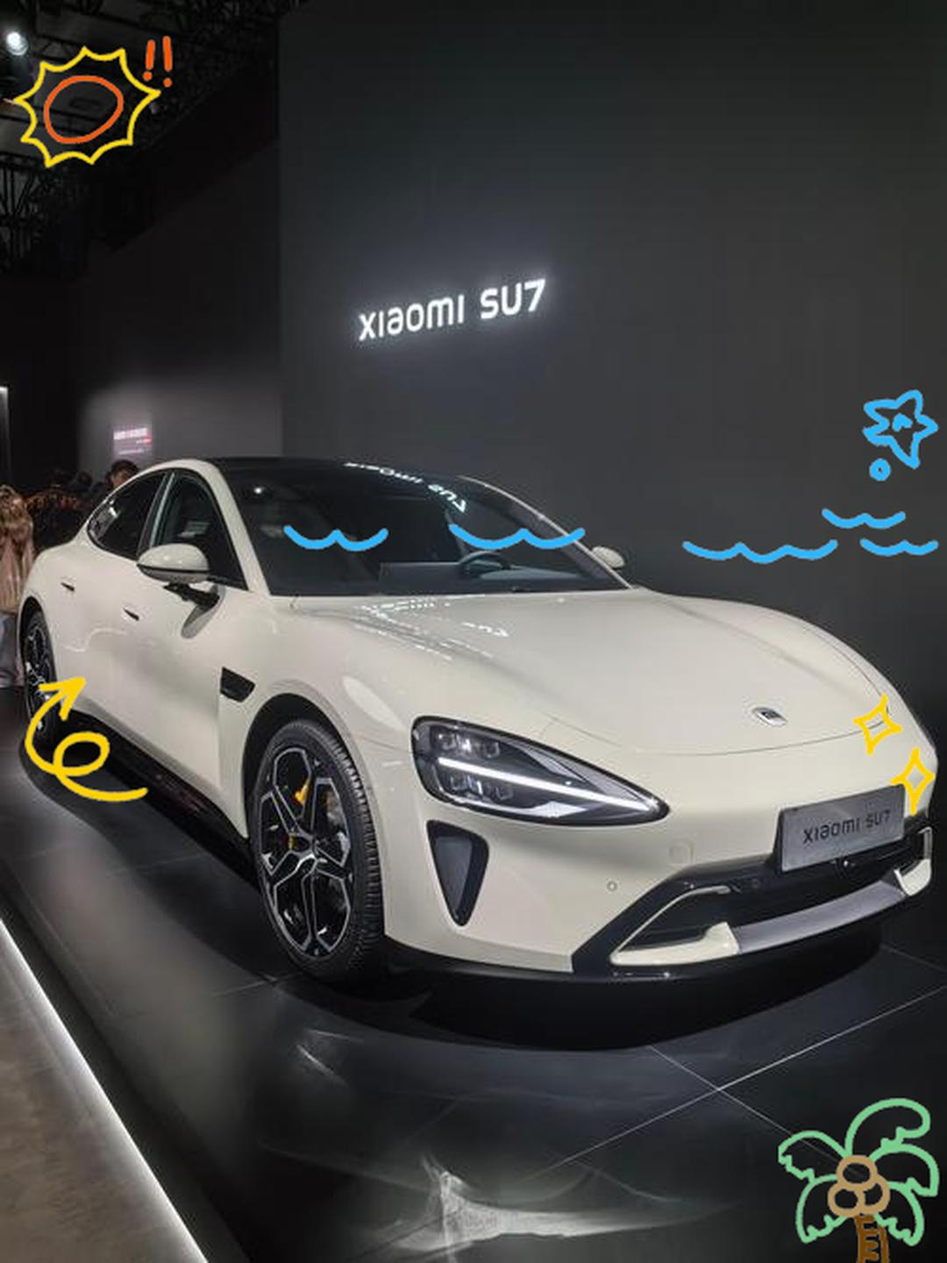su7: (40, 446, 943, 993)
